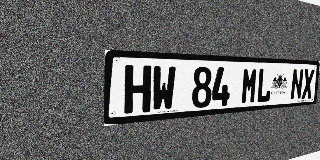4: (211, 67, 231, 107)
8: (191, 67, 213, 108)
H: (124, 65, 152, 114)
L: (256, 68, 272, 103)
M: (241, 68, 258, 104)
N: (290, 69, 304, 100)
W: (151, 66, 176, 112)
X: (301, 69, 315, 99)
